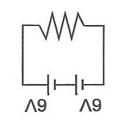Battery: (69, 74, 89, 92)
